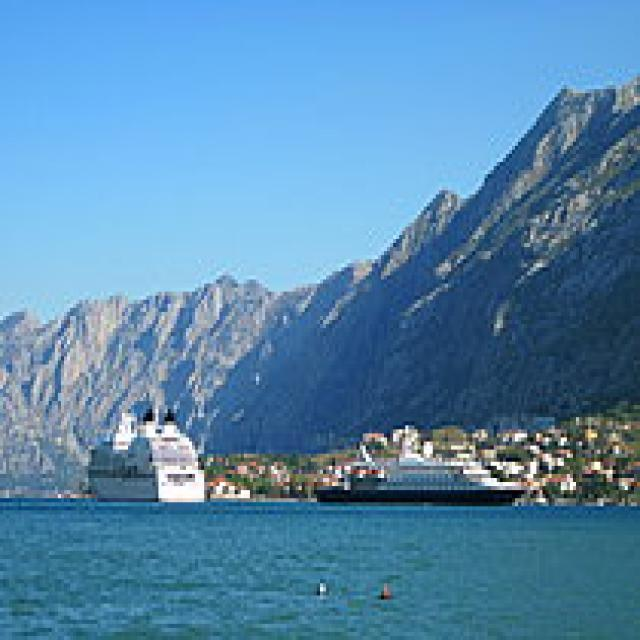Ship: (81, 386, 221, 512), (306, 439, 535, 512)
